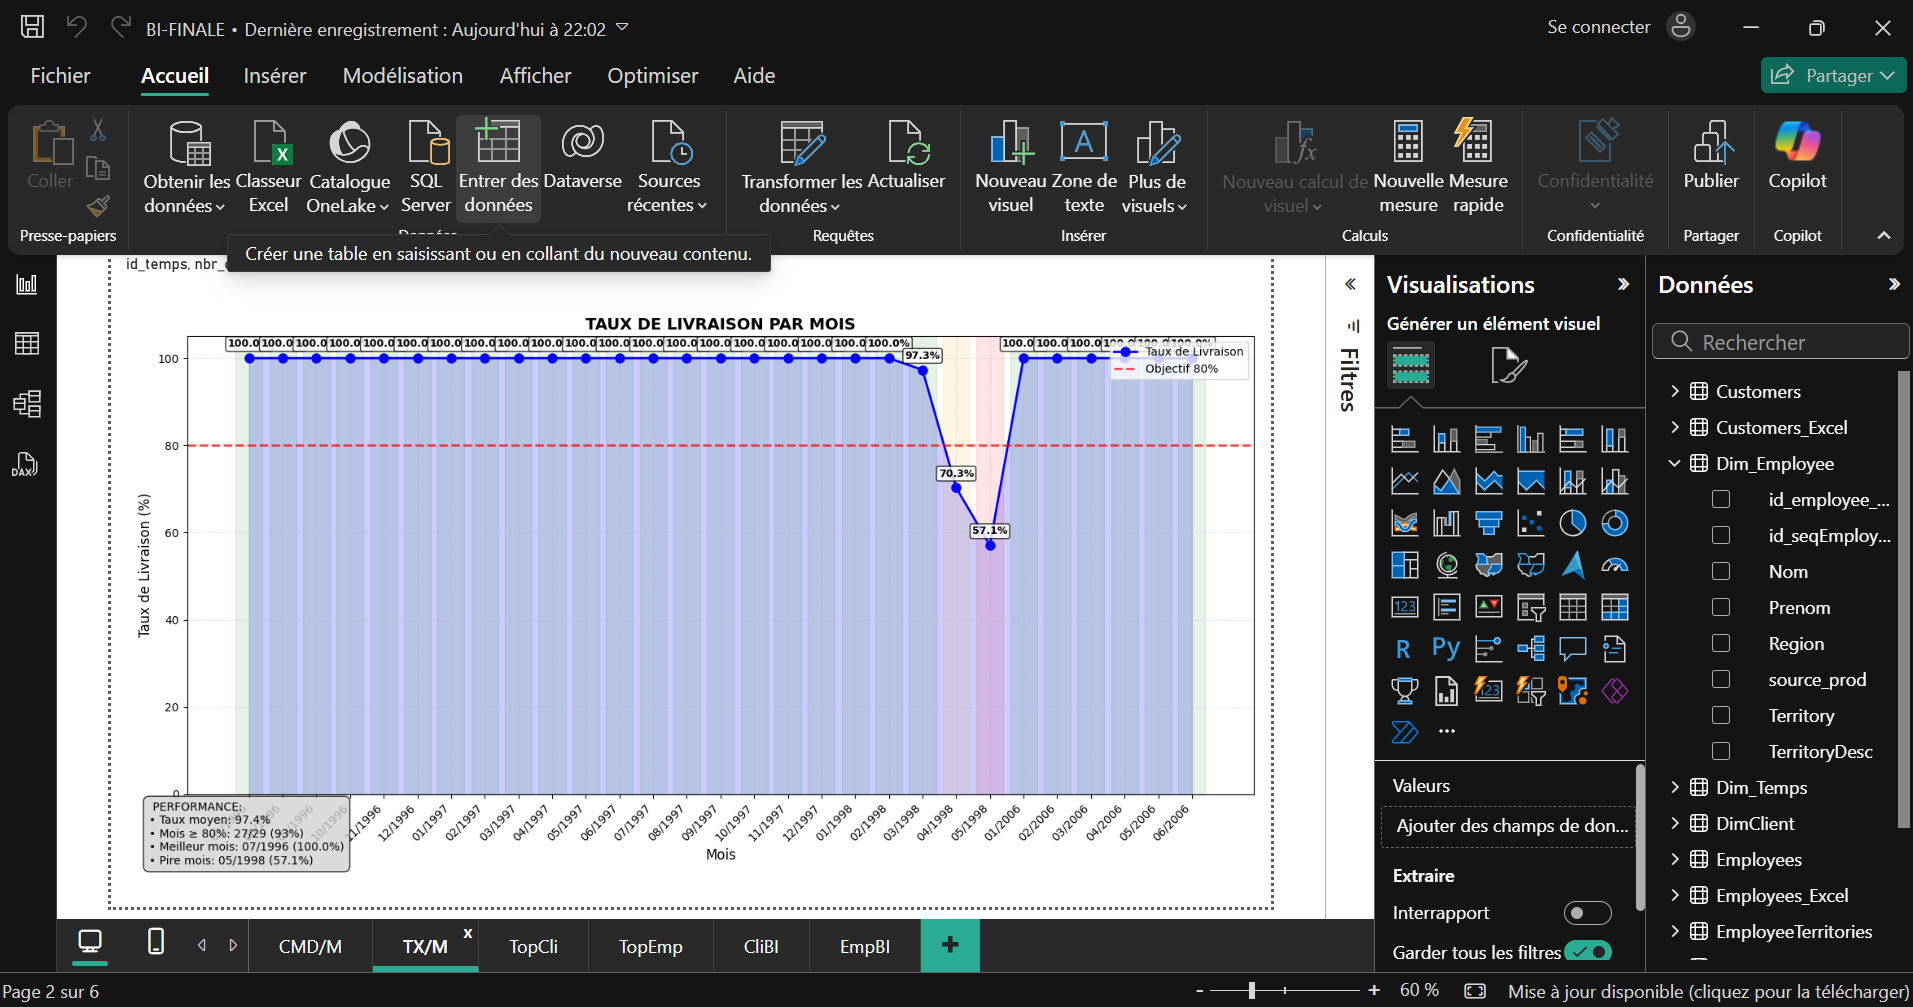

This screenshot's page, from the dashboard's own definition file:
{"tool":"powerbi","page":{"name":"TX/M","canvas":[1280,720],"ordinal":1},"visuals":[{"type":"pythonVisual","fields":{"Values":["TF_Commande.id_temps","TF_Commande.nbr_commande_livrees","TF_Commande.nbr_commande_non_livrees","Dim_Temps.id_temps","Dim_Temps.mois_annee"]},"box":[10.8,0,1268.7,720.6],"z":0}]}

Visuals, with their boxes on the page's 1280x720 design canvas (x1, y1, x2, y2). These are canvas units, not pixel positions in the 1913x1007 screenshot, which may show the page scaled, cropped or inside an application window:
pythonVisual - TF_Commande.id_temps x TF_Commande.nbr_commande_livrees: bbox=(11, 0, 1280, 721)
